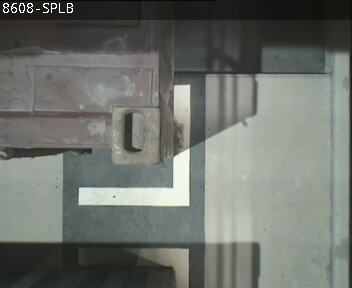groundmarker_1: (79, 83, 191, 287)
